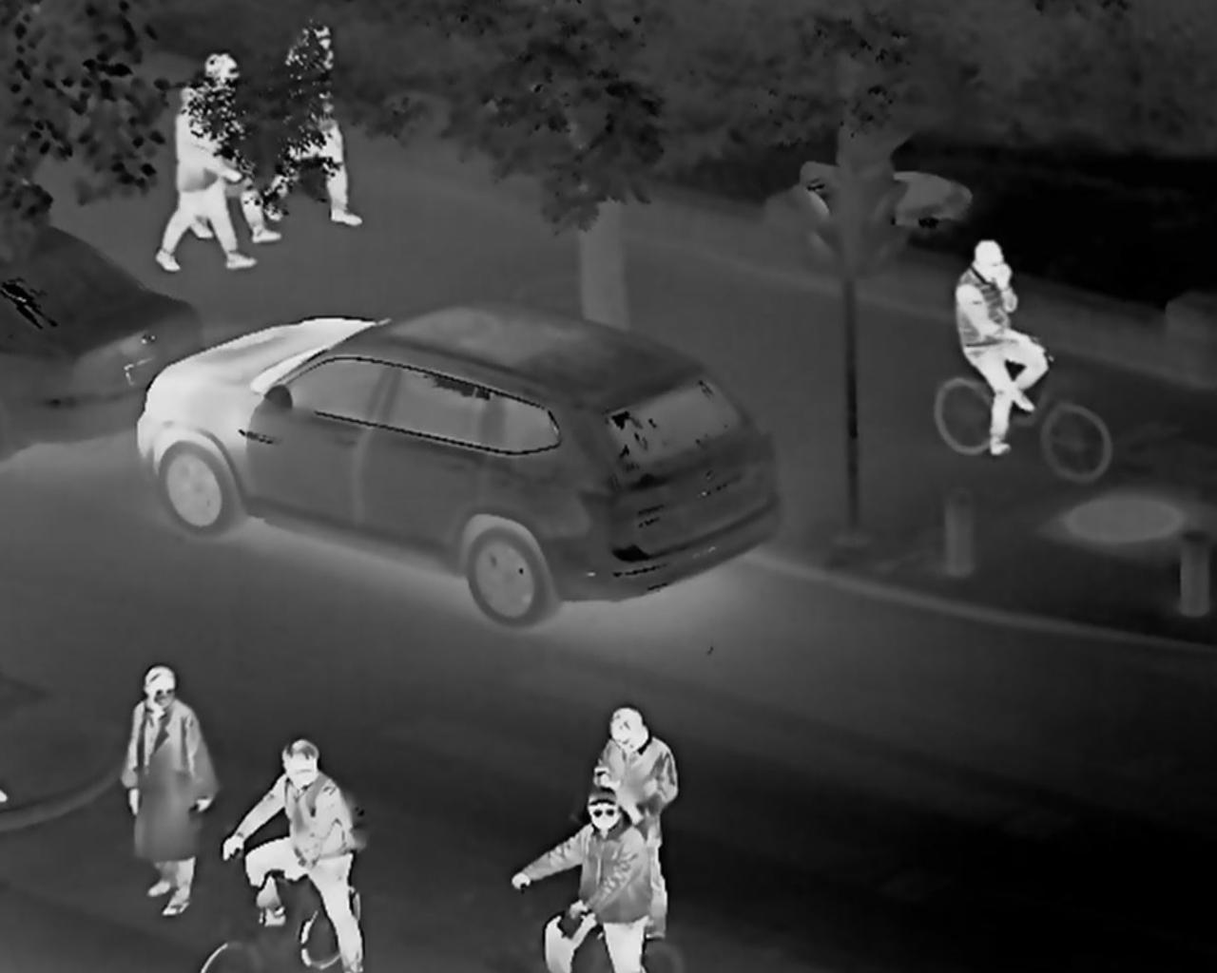person: (939, 230, 1115, 433), (141, 57, 256, 272), (269, 739, 373, 973), (135, 645, 221, 905), (279, 48, 377, 243), (541, 794, 646, 973), (588, 689, 650, 796)
